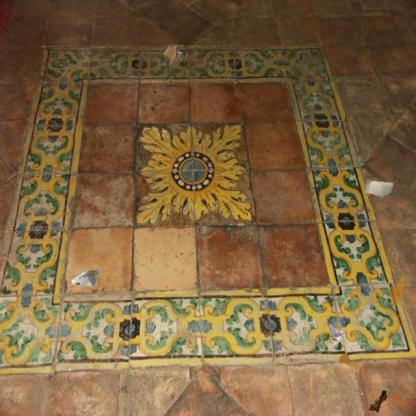dirty: (70, 268, 101, 292), (366, 388, 392, 416), (326, 322, 346, 349), (364, 180, 393, 197), (163, 44, 182, 64)
liquid: (338, 352, 369, 374), (388, 277, 404, 305)
